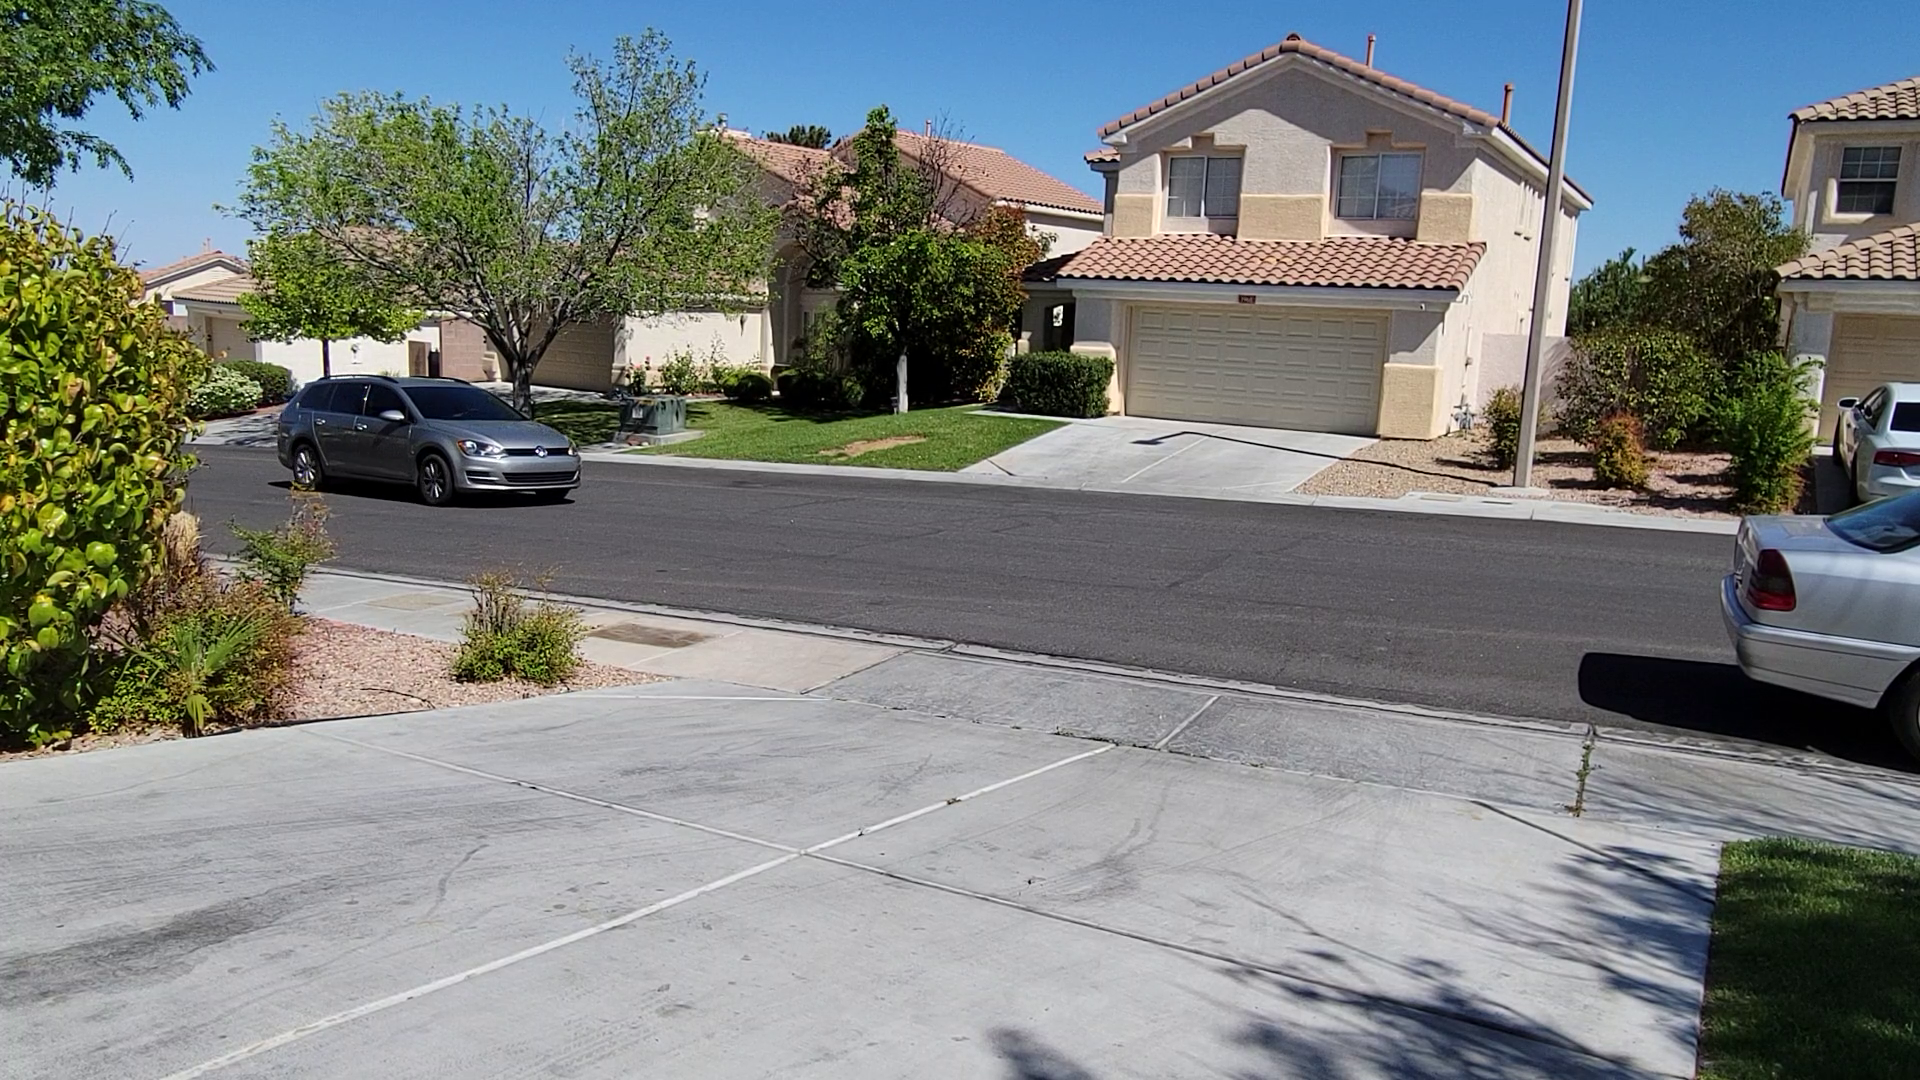car: (273, 373, 585, 509)
